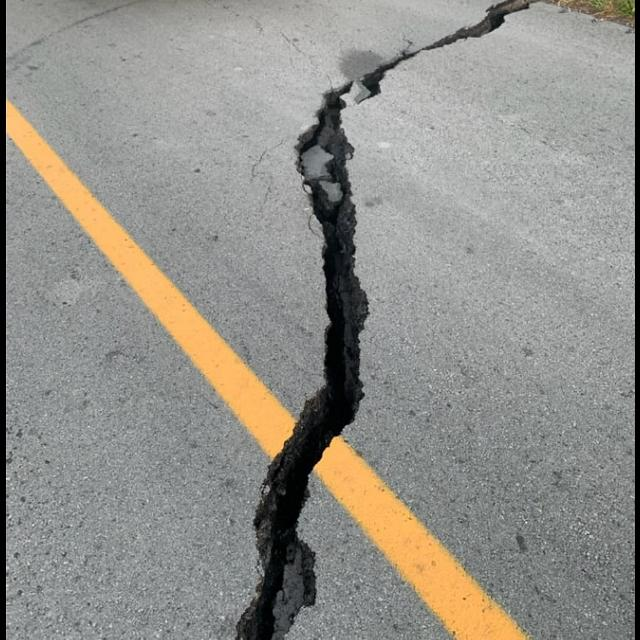retak_memanjang: (181, 0, 544, 640)
